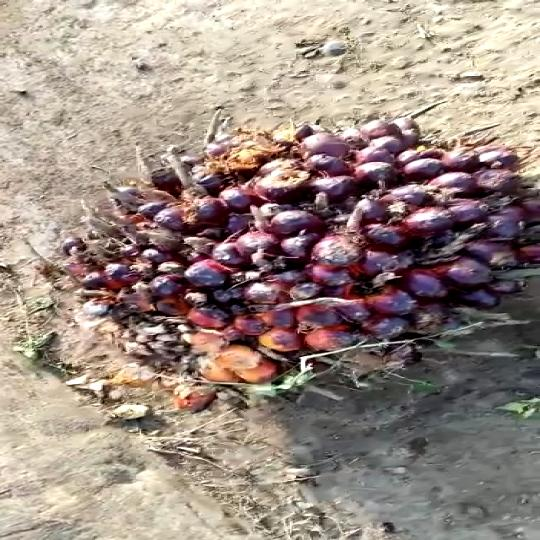kurang masak: (61, 114, 540, 401)
